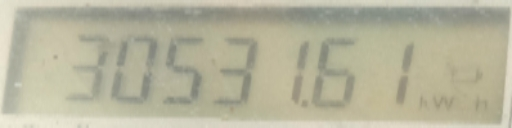0: (110, 21, 157, 108)
1: (284, 27, 310, 104), (395, 36, 417, 112)
3: (64, 20, 106, 107), (215, 32, 257, 112)
5: (161, 24, 207, 107)
6: (313, 30, 363, 108)
d: (298, 96, 312, 111)
